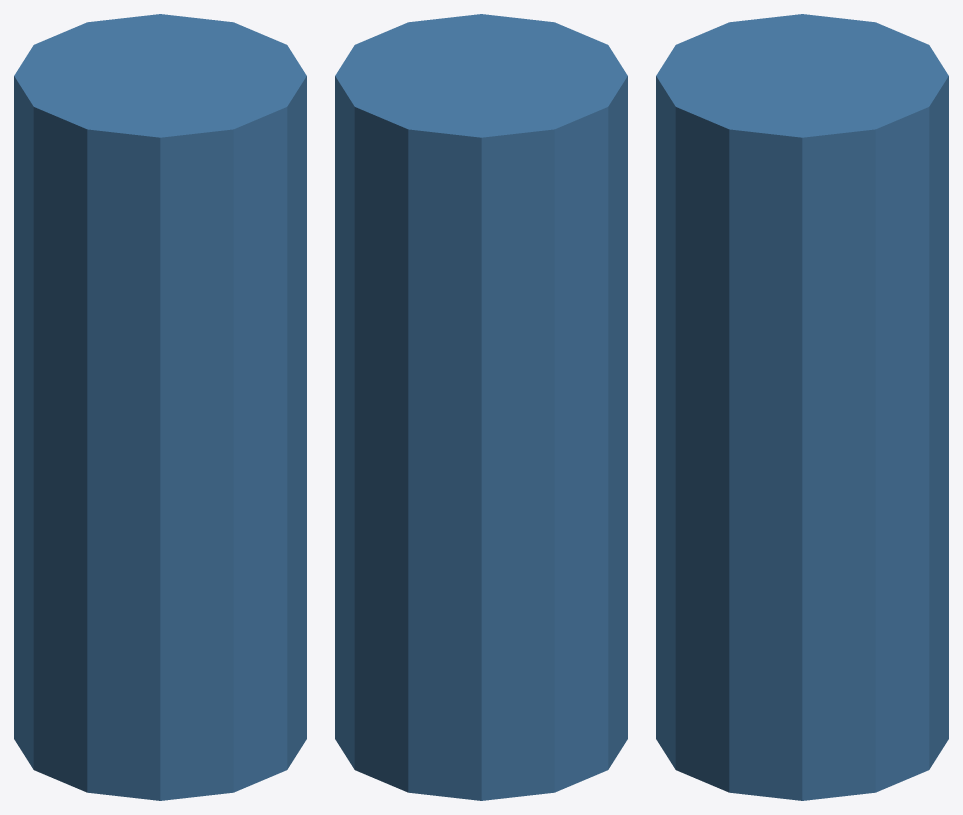
Rendered from O_enviroment_MetalPipe_Stickout1.fbx.
3 views of the same model, side by side, from view 1: azimuth 30°, elevation 25°; view 2: azimuth 150°, elevation 25°; view 3: azimuth 270°, elevation 25° (orthographic).
Visible parts, largest first — view 1: pCylinder3; view 2: pCylinder3; view 3: pCylinder3.
Boxes of the visible parts, x1,y1,x2,y2 form: pCylinder3: (14, 14, 306, 800); pCylinder3: (335, 14, 627, 800); pCylinder3: (656, 14, 948, 800).
Size of the model in its own units: 1.17 by 2.93 by 1.17.
